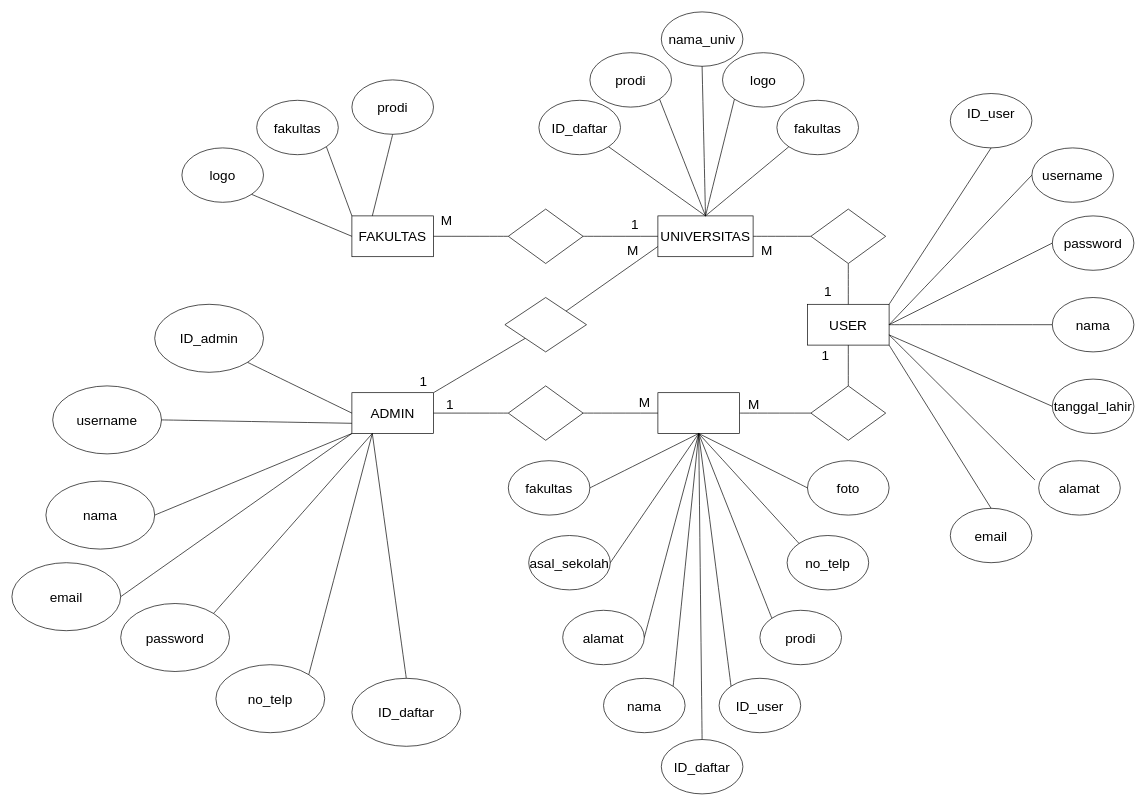
Some shapes in this 1146 by 806 pixel diagram are drawn without their labels. The shapes that lost their labels are listed below. From the top down, each one's centre as x and y in pixels, then its label:
the point at 545,236: Memiliki
the point at 848,236: Memilih
the point at 545,324: Memberi
the point at 545,412: Dikirim
the point at 698,413: DAFTAR
the point at 848,412: Mengisi
